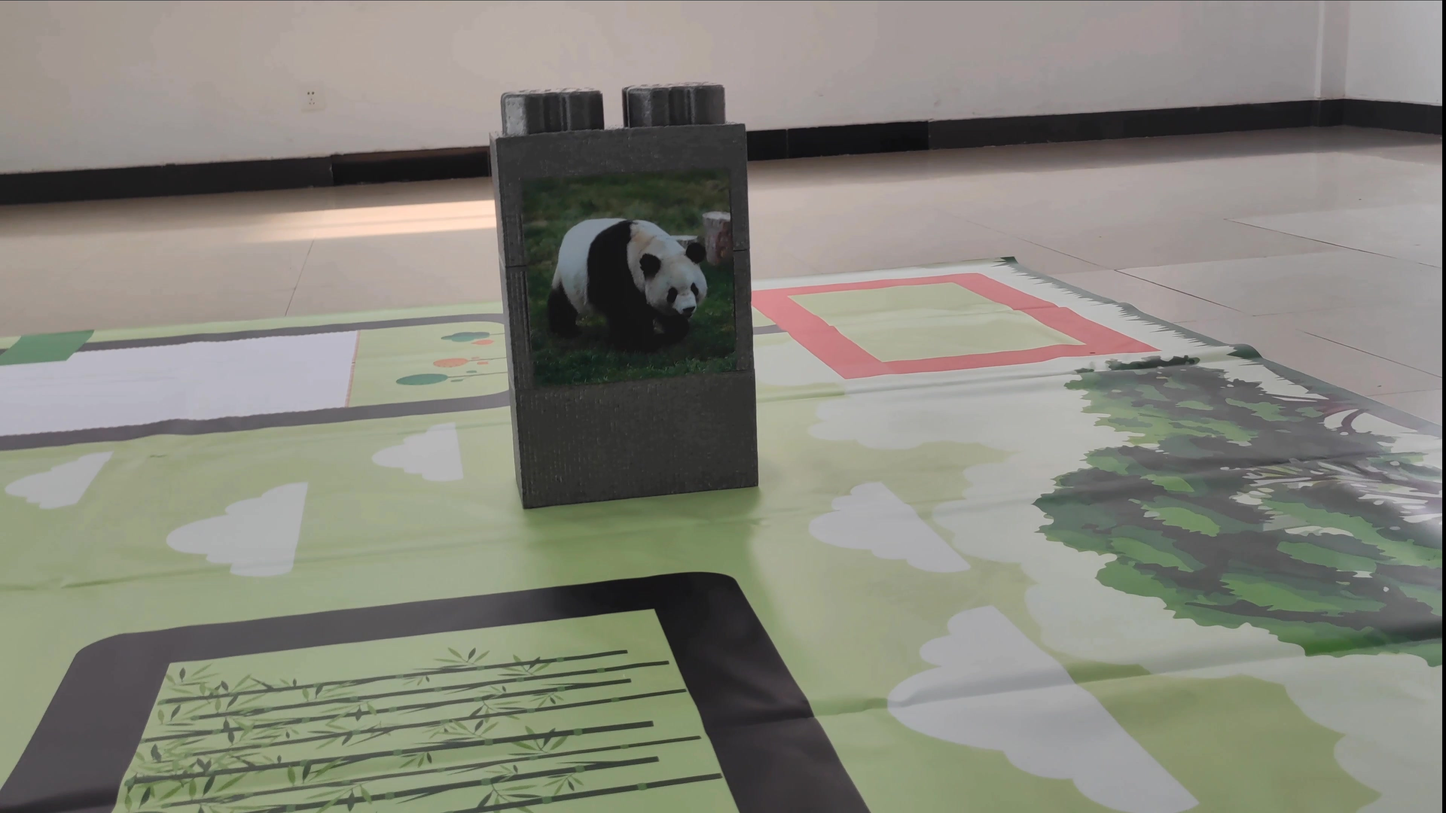panda: (532, 192, 735, 357)
